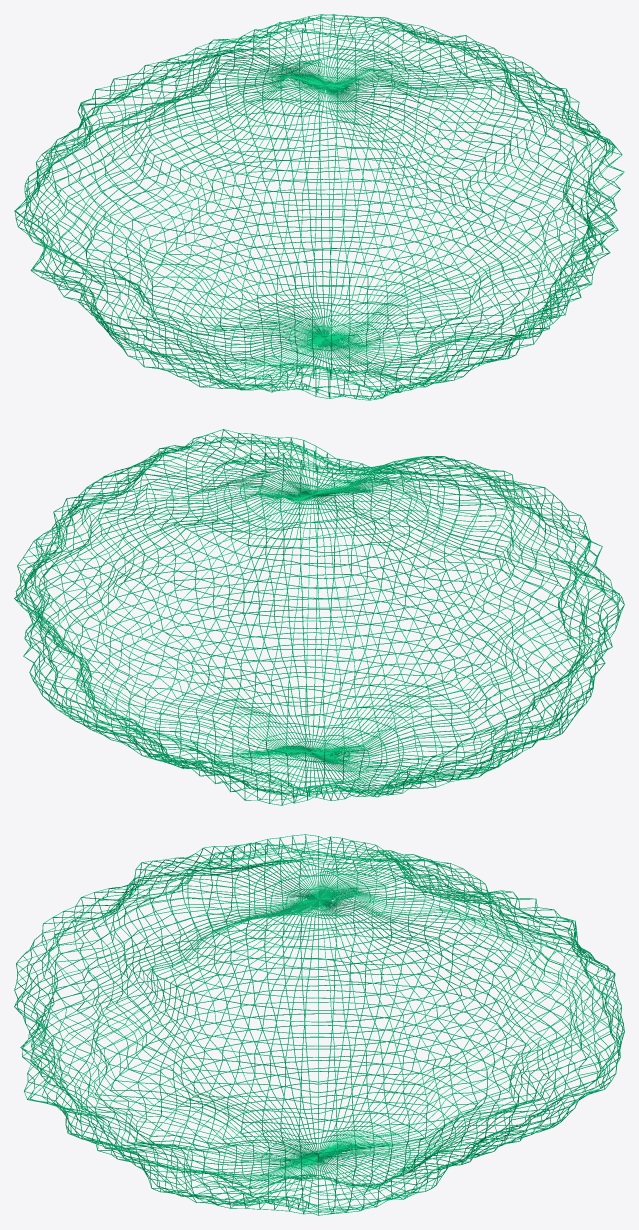
The model's file is stone.fbx.
The picture shows the model from 3 angles, top to bottom: view 1: azimuth 30°, elevation 25°; view 2: azimuth 150°, elevation 25°; view 3: azimuth 270°, elevation 25°; orthographic projection.
Parts seen in each view (by area): view 1: Sweep; view 2: Sweep; view 3: Sweep.
Part boxes in pixels (x1,y1,x2,y2): Sweep: (14, 14, 624, 400); Sweep: (14, 429, 624, 805); Sweep: (14, 834, 624, 1215).
Bounding box in the file's own units: 1698 × 839 × 1666.
